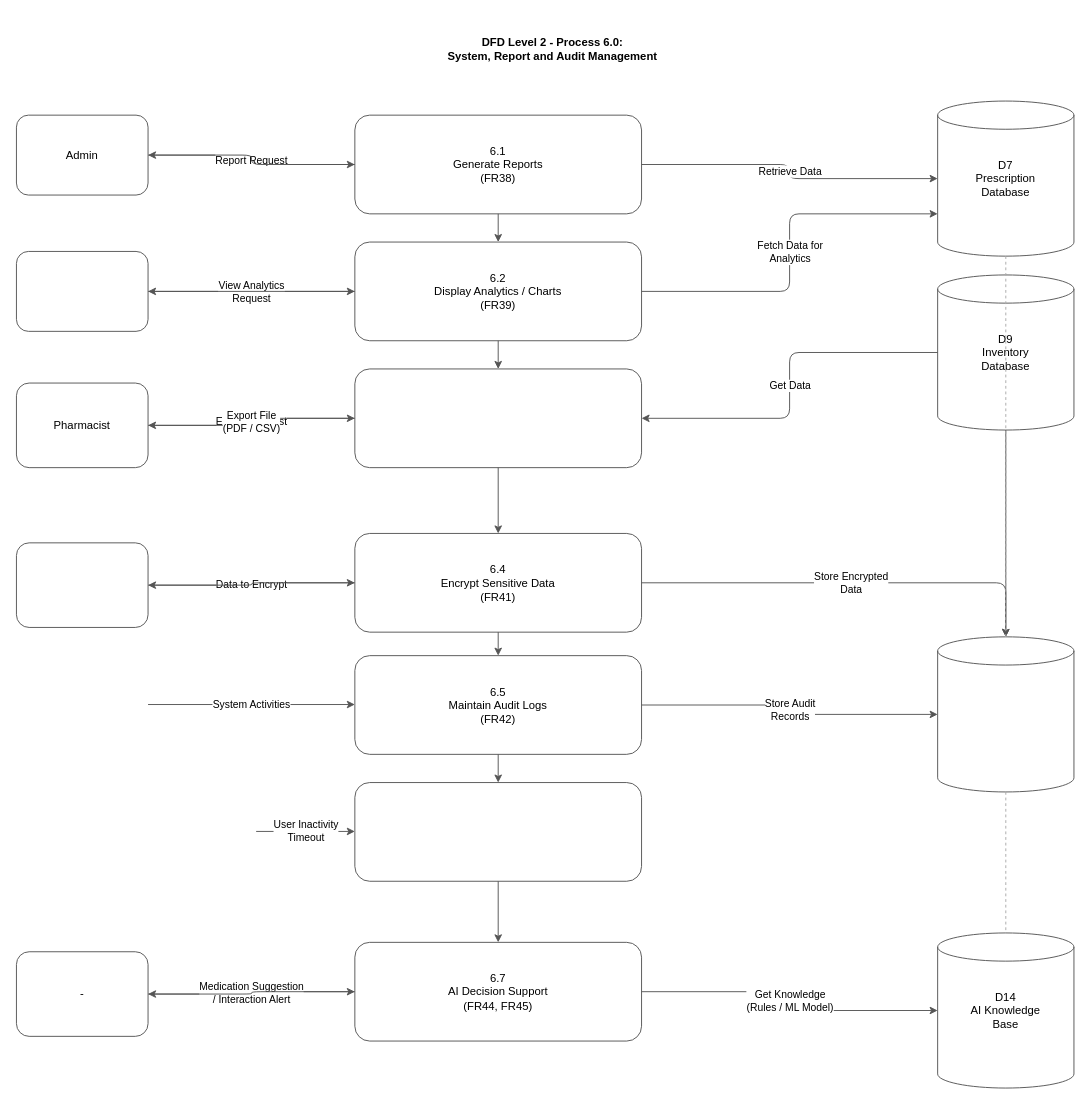
The diagram is 1090 pixels wide and 1105 high, and some of its shapes have lost their labels. The centre of each missing label's shape, as x and y in pixels:
6.3 Export Reports (FR40): point (498, 418)
6.6 Automatic Logout (FR43): point (498, 831)
D13 Audit Logs: point (1005, 714)
Doctor: point (82, 291)
System: point (82, 584)
